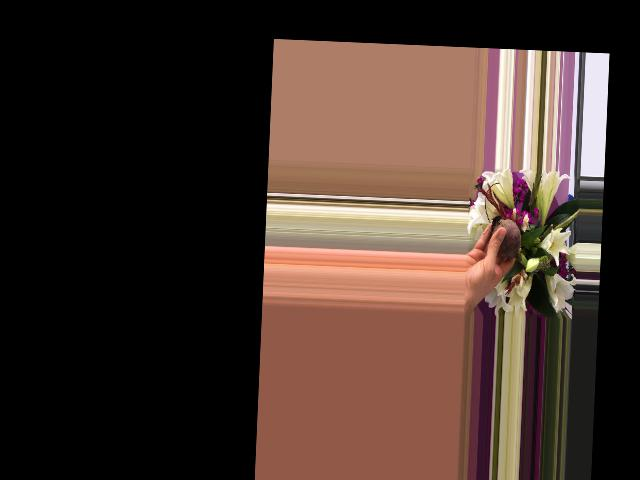beet: (489, 214, 528, 269)
